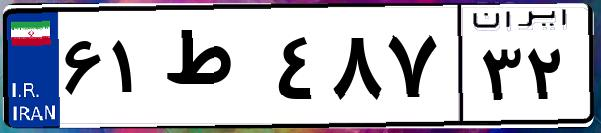1: (110, 28, 158, 98)
2: (525, 38, 570, 115)
3: (475, 38, 525, 113)
4: (270, 28, 330, 110)
6: (57, 26, 110, 100)
7: (385, 28, 445, 110)
8: (330, 28, 385, 110)
ط: (158, 20, 270, 120)
